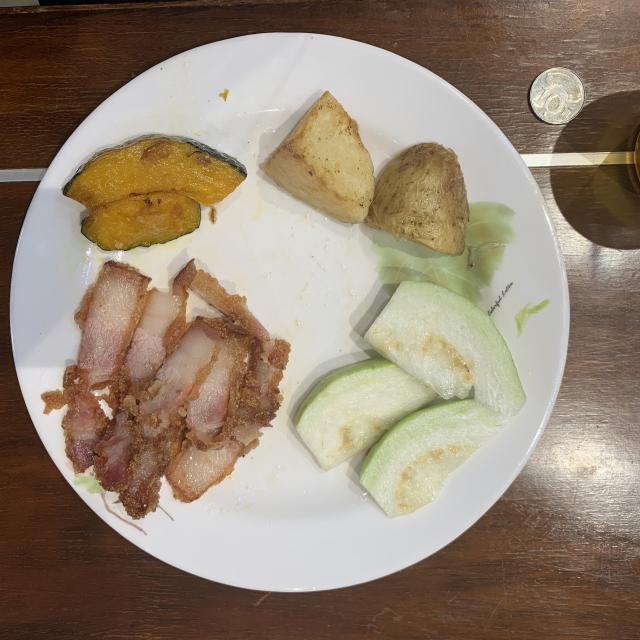coin: (530, 68, 585, 125)
fried potato: (264, 91, 470, 255)
guava -sliced-: (296, 281, 525, 516)
pumpkin: (62, 135, 246, 250)
red grilled pork: (42, 261, 290, 519)
